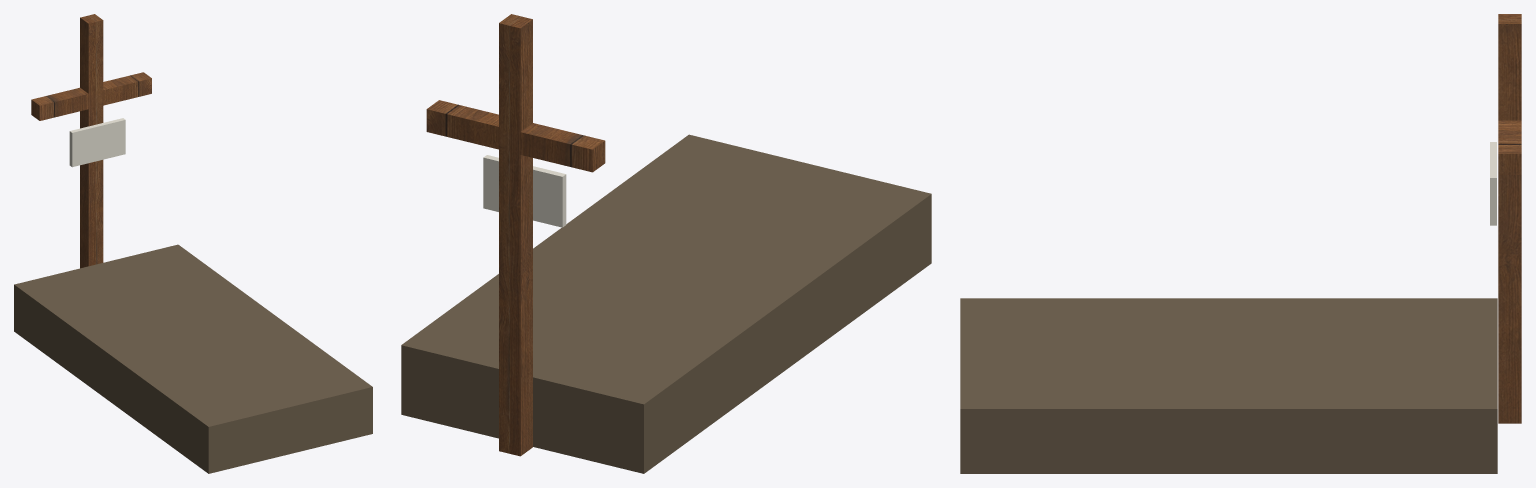
Rendered from grave_recent.glb.
The picture shows the model from 3 angles, left to right: view 1: azimuth 30°, elevation 25°; view 2: azimuth 150°, elevation 25°; view 3: azimuth 270°, elevation 25°; orthographic projection. The views are drawn at different scales.
Visible parts, largest first — view 1: grave_recent; view 2: grave_recent; view 3: grave_recent.
Boxes of the visible parts, <box> form: grave_recent: <box>14,14,372,473</box>; grave_recent: <box>401,14,931,473</box>; grave_recent: <box>960,14,1521,473</box>.
Size of the model in its own units: 0.95 by 1.6 by 2.04.
Materials: 3 (1 with a texture image).
